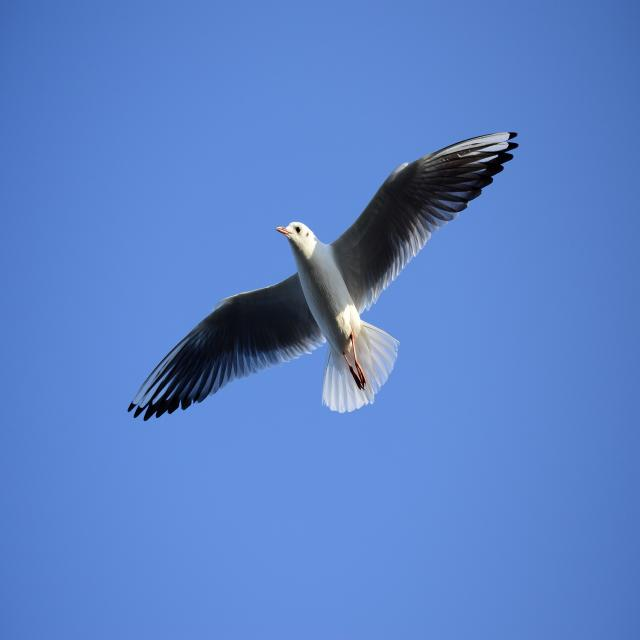birds: (126, 124, 528, 432)
